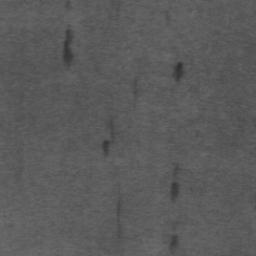Iron scale compression: (64, 0, 73, 69), (171, 163, 178, 203), (115, 191, 120, 238), (133, 74, 139, 112), (173, 62, 184, 82), (169, 235, 178, 251), (102, 141, 109, 158), (110, 116, 114, 137)
